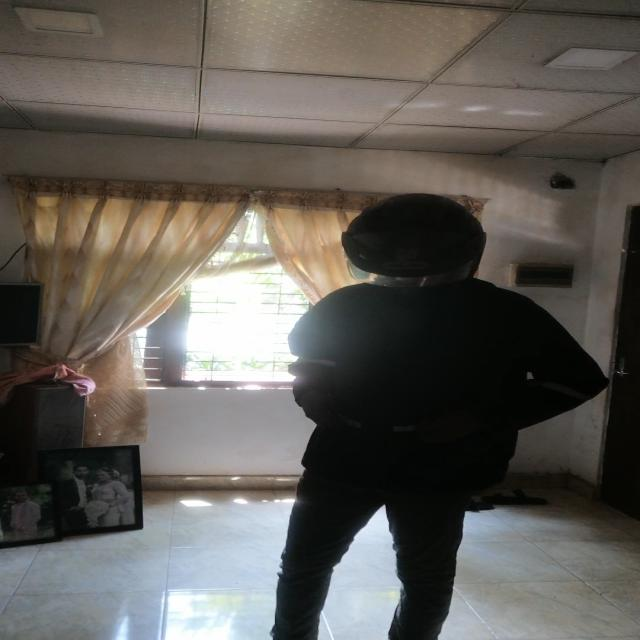Helmet_Wearer: (332, 189, 493, 293)
Jacket_Wearer: (278, 274, 618, 509)
Person: (278, 189, 616, 640)
